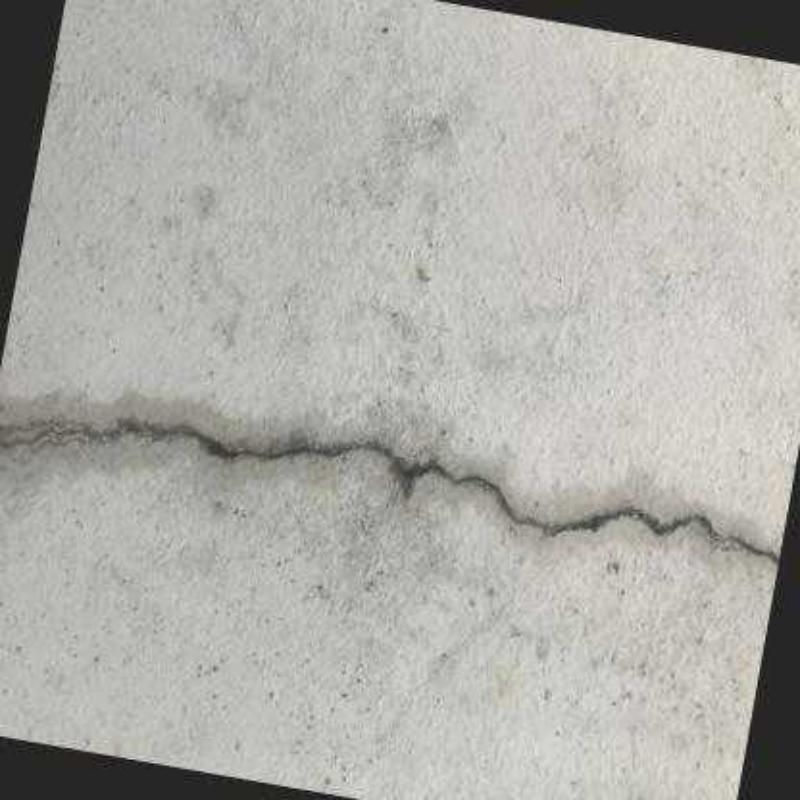pothole: (1, 415, 776, 566)
